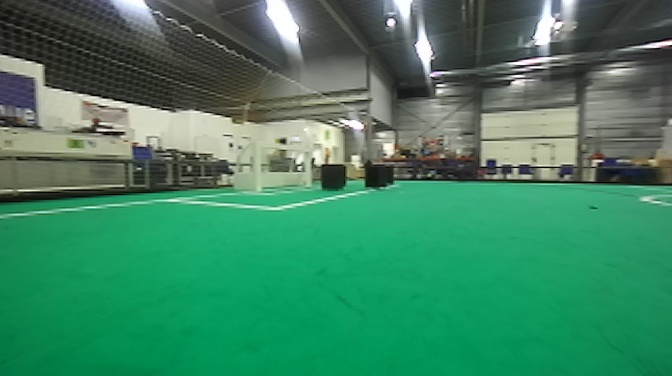goalpost: (303, 137, 325, 187), (251, 139, 267, 194)
